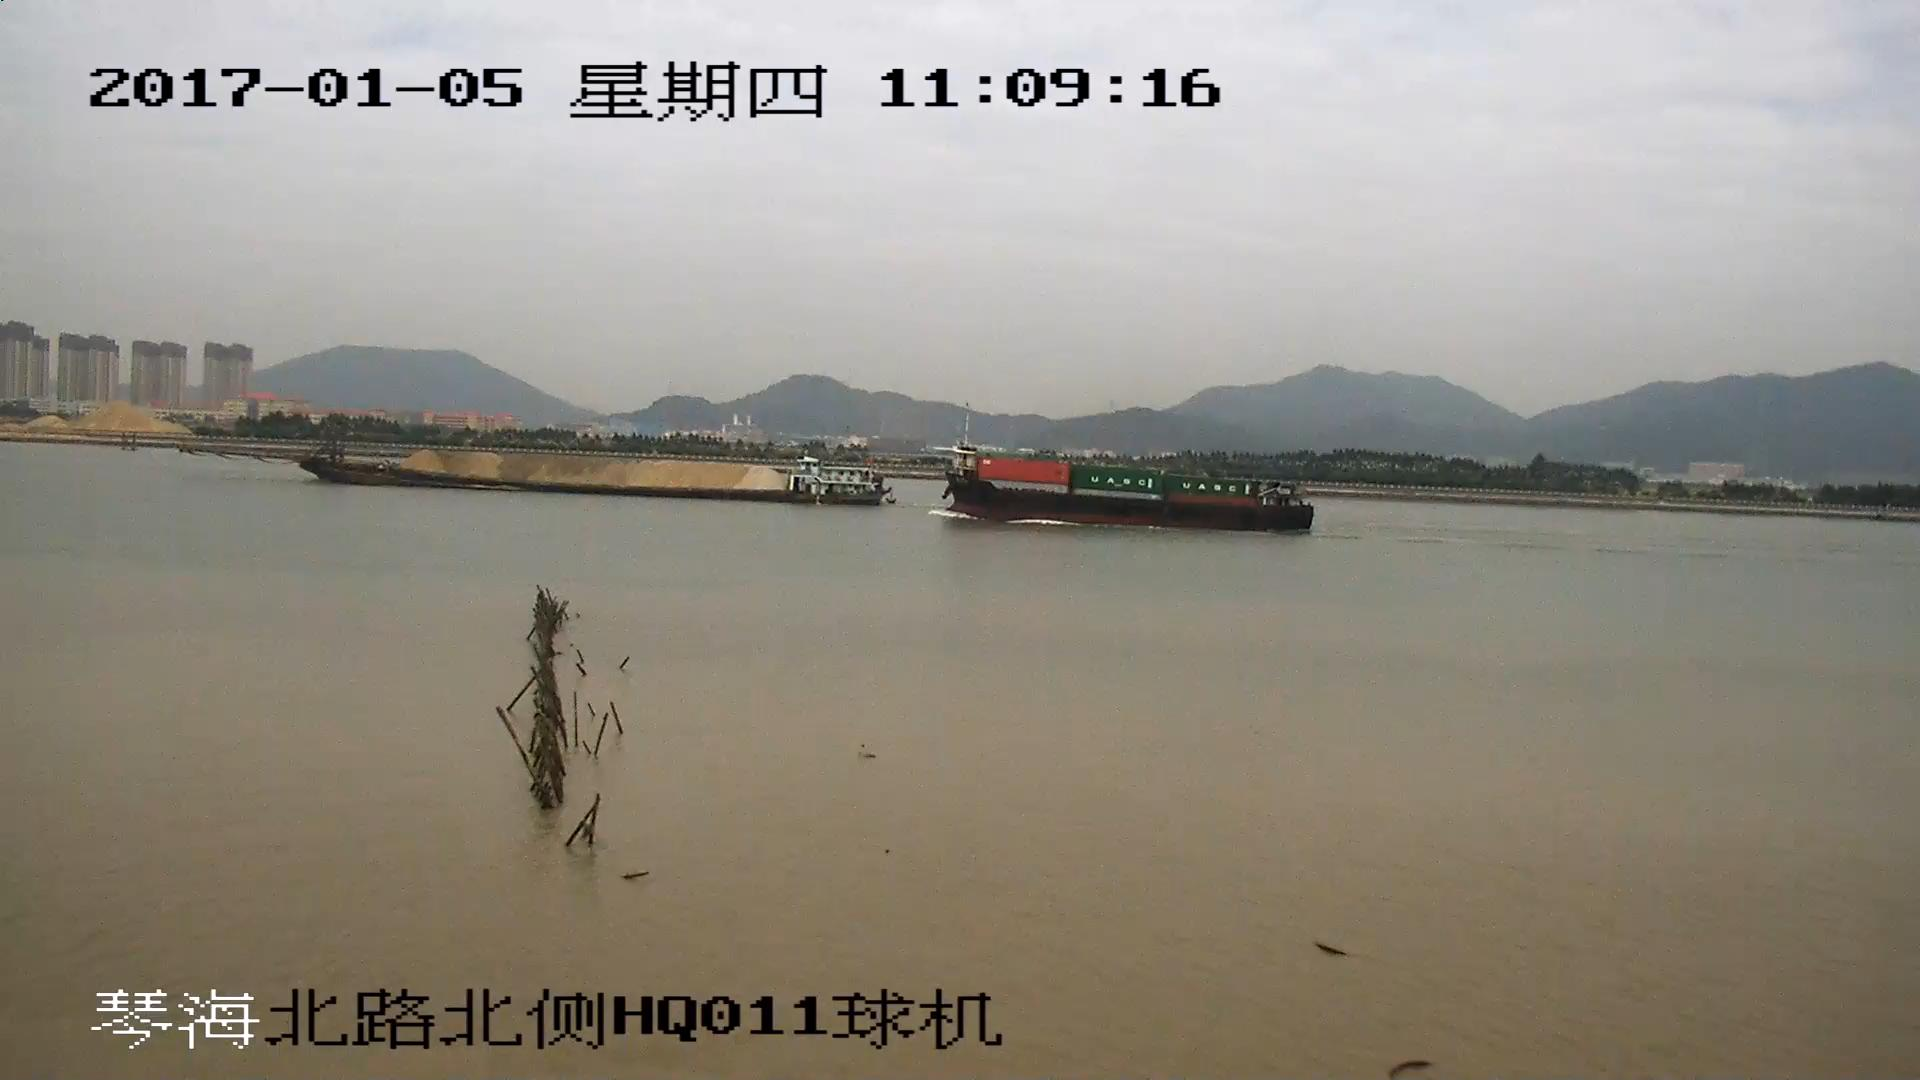container ship: (940, 434, 1312, 526)
ore carrier: (209, 429, 890, 510)
